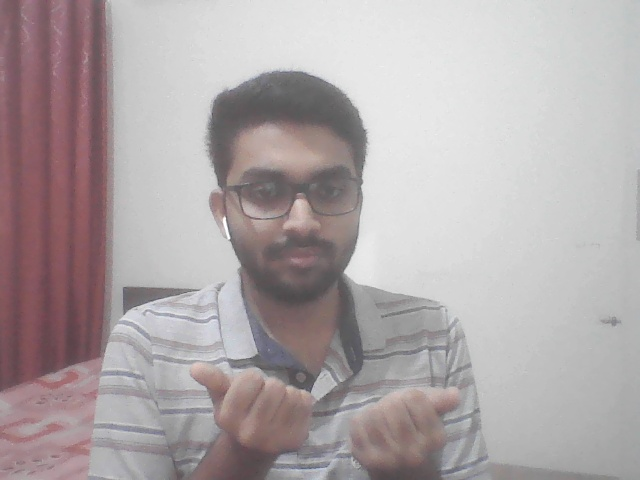want: (165, 337, 490, 478)
